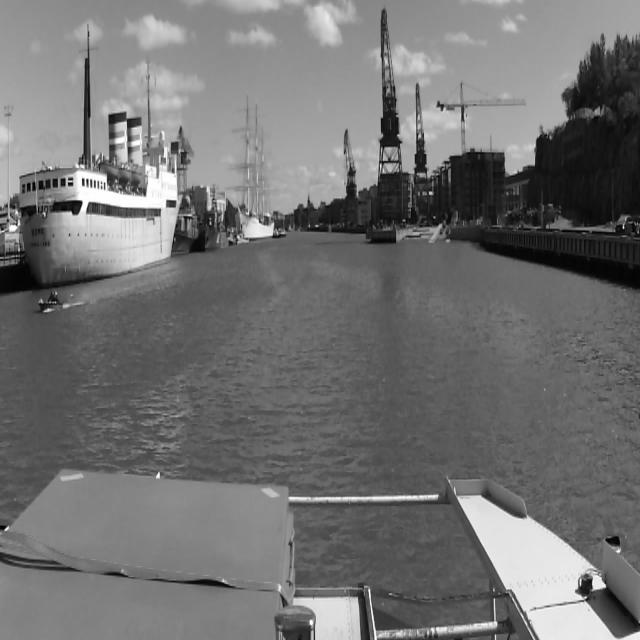ship: (18, 104, 184, 287), (236, 93, 275, 245), (198, 182, 227, 255), (38, 290, 64, 314)
